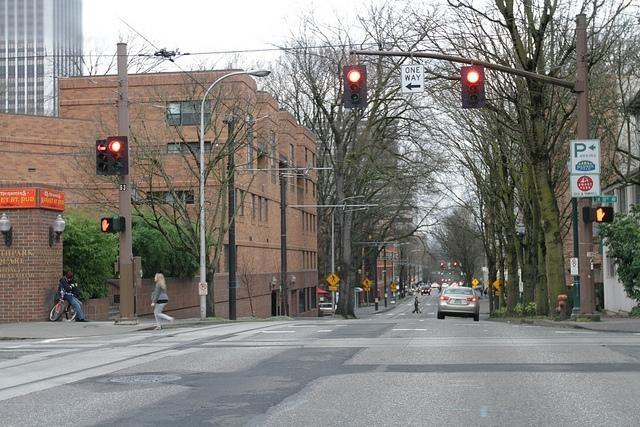bicycle: (48, 289, 76, 321)
car: (437, 288, 479, 322), (318, 302, 338, 314), (421, 286, 432, 296), (431, 283, 440, 288), (442, 283, 448, 287)
